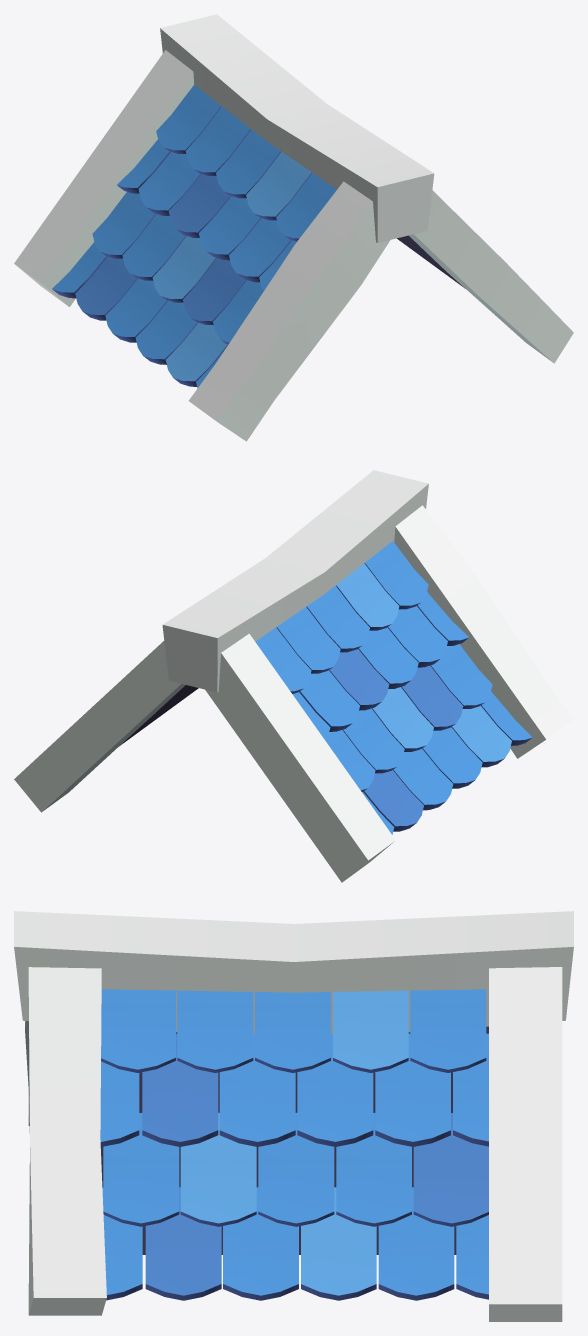
File: Roof01_Blue_White.glb
3 views of the same model, one above another, from view 1: azimuth 30°, elevation 25°; view 2: azimuth 150°, elevation 25°; view 3: azimuth 270°, elevation 25° (orthographic). The views are drawn at different scales.
Parts seen in each view (by area): view 1: Roof01_Blue_White; view 2: Roof01_Blue_White; view 3: Roof01_Blue_White.
Part boxes in pixels (x1,y1,x2,y2): Roof01_Blue_White: [14, 14, 573, 441]; Roof01_Blue_White: [14, 470, 573, 882]; Roof01_Blue_White: [14, 911, 573, 1321].
Size of the model in its own units: 2.41 by 1.43 by 2.46.
Materials: 1 (1 with a texture image).
